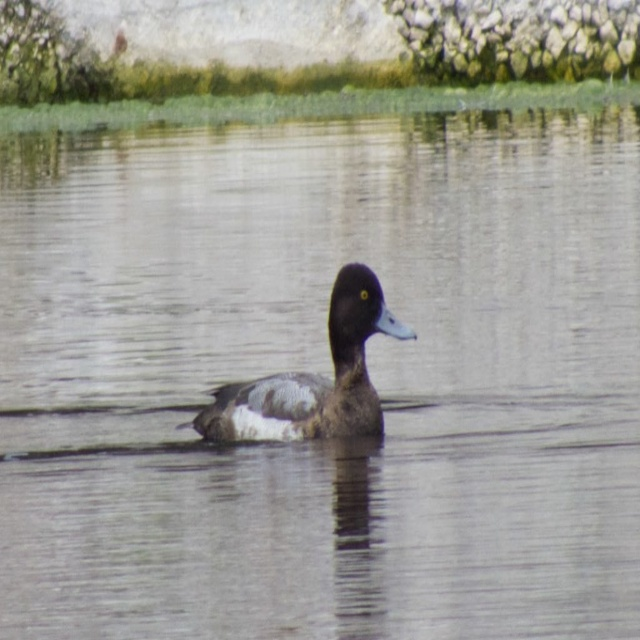Duck: (174, 262, 418, 447)
